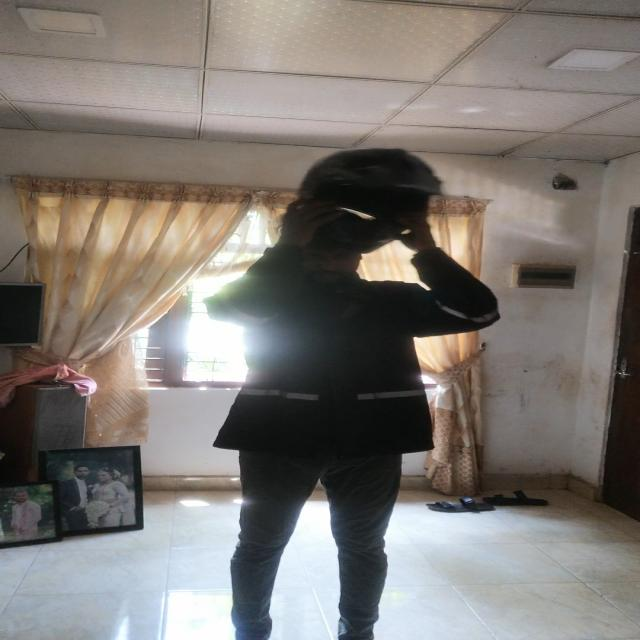Jacket_Wearer: (194, 255, 496, 488)
Person: (182, 194, 492, 640)
